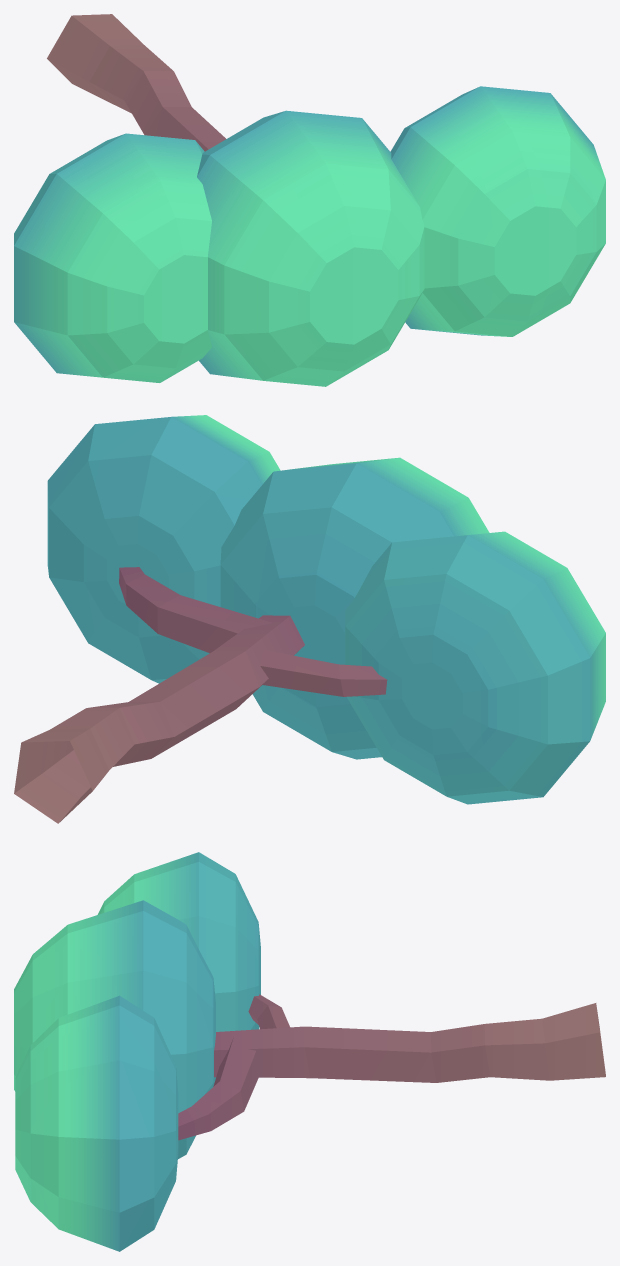
Rendered from tree2.glb.
3 renders of one model, top to bottom at view 1: azimuth 30°, elevation 25°; view 2: azimuth 150°, elevation 25°; view 3: azimuth 270°, elevation 25°, orthographic. The views are drawn at different scales.
Parts seen in each view (by area): view 1: small tree_4; view 2: small tree_4; view 3: small tree_4.
Boxes of the visible parts, left/top/right/bottom form: small tree_4: left=14, top=14, right=605, bottom=386; small tree_4: left=14, top=415, right=605, bottom=823; small tree_4: left=14, top=852, right=605, bottom=1251.
Size of the model in its own units: 9.7 by 4.66 by 9.73.
Materials: 1 (1 with a texture image).
